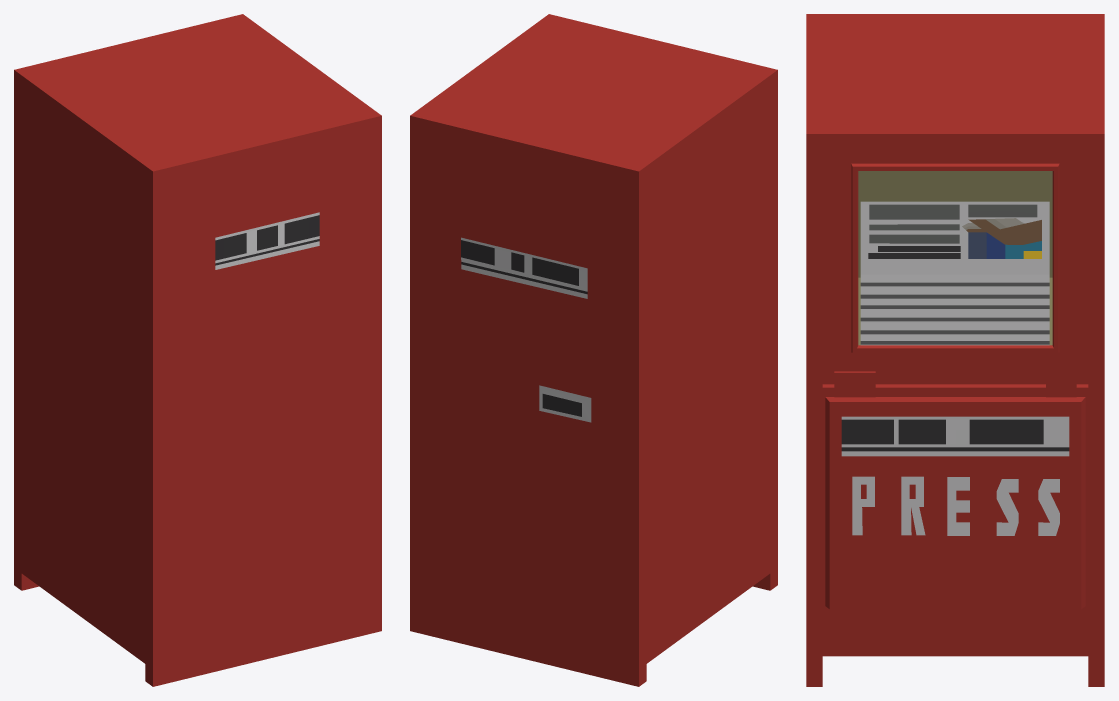
The model's file is SM_press_box_3a.gltf.
The picture shows the model from 3 angles, left to right: view 1: azimuth 30°, elevation 25°; view 2: azimuth 150°, elevation 25°; view 3: azimuth 270°, elevation 25°; orthographic projection. The views are drawn at different scales.
Visible parts, largest first — view 1: SM_press_box_3a; view 2: SM_press_box_3a; view 3: SM_press_box_3a.
Boxes of the visible parts, box(x1,y1,x2,y2) form: SM_press_box_3a: box(14, 14, 381, 686); SM_press_box_3a: box(410, 14, 777, 686); SM_press_box_3a: box(806, 14, 1104, 686).
Size of the model in its own units: 0.6565 by 1.41 by 0.6908.
2 materials, 1 textured.
